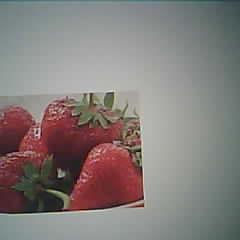straw-ripe: (71, 145, 142, 207)
